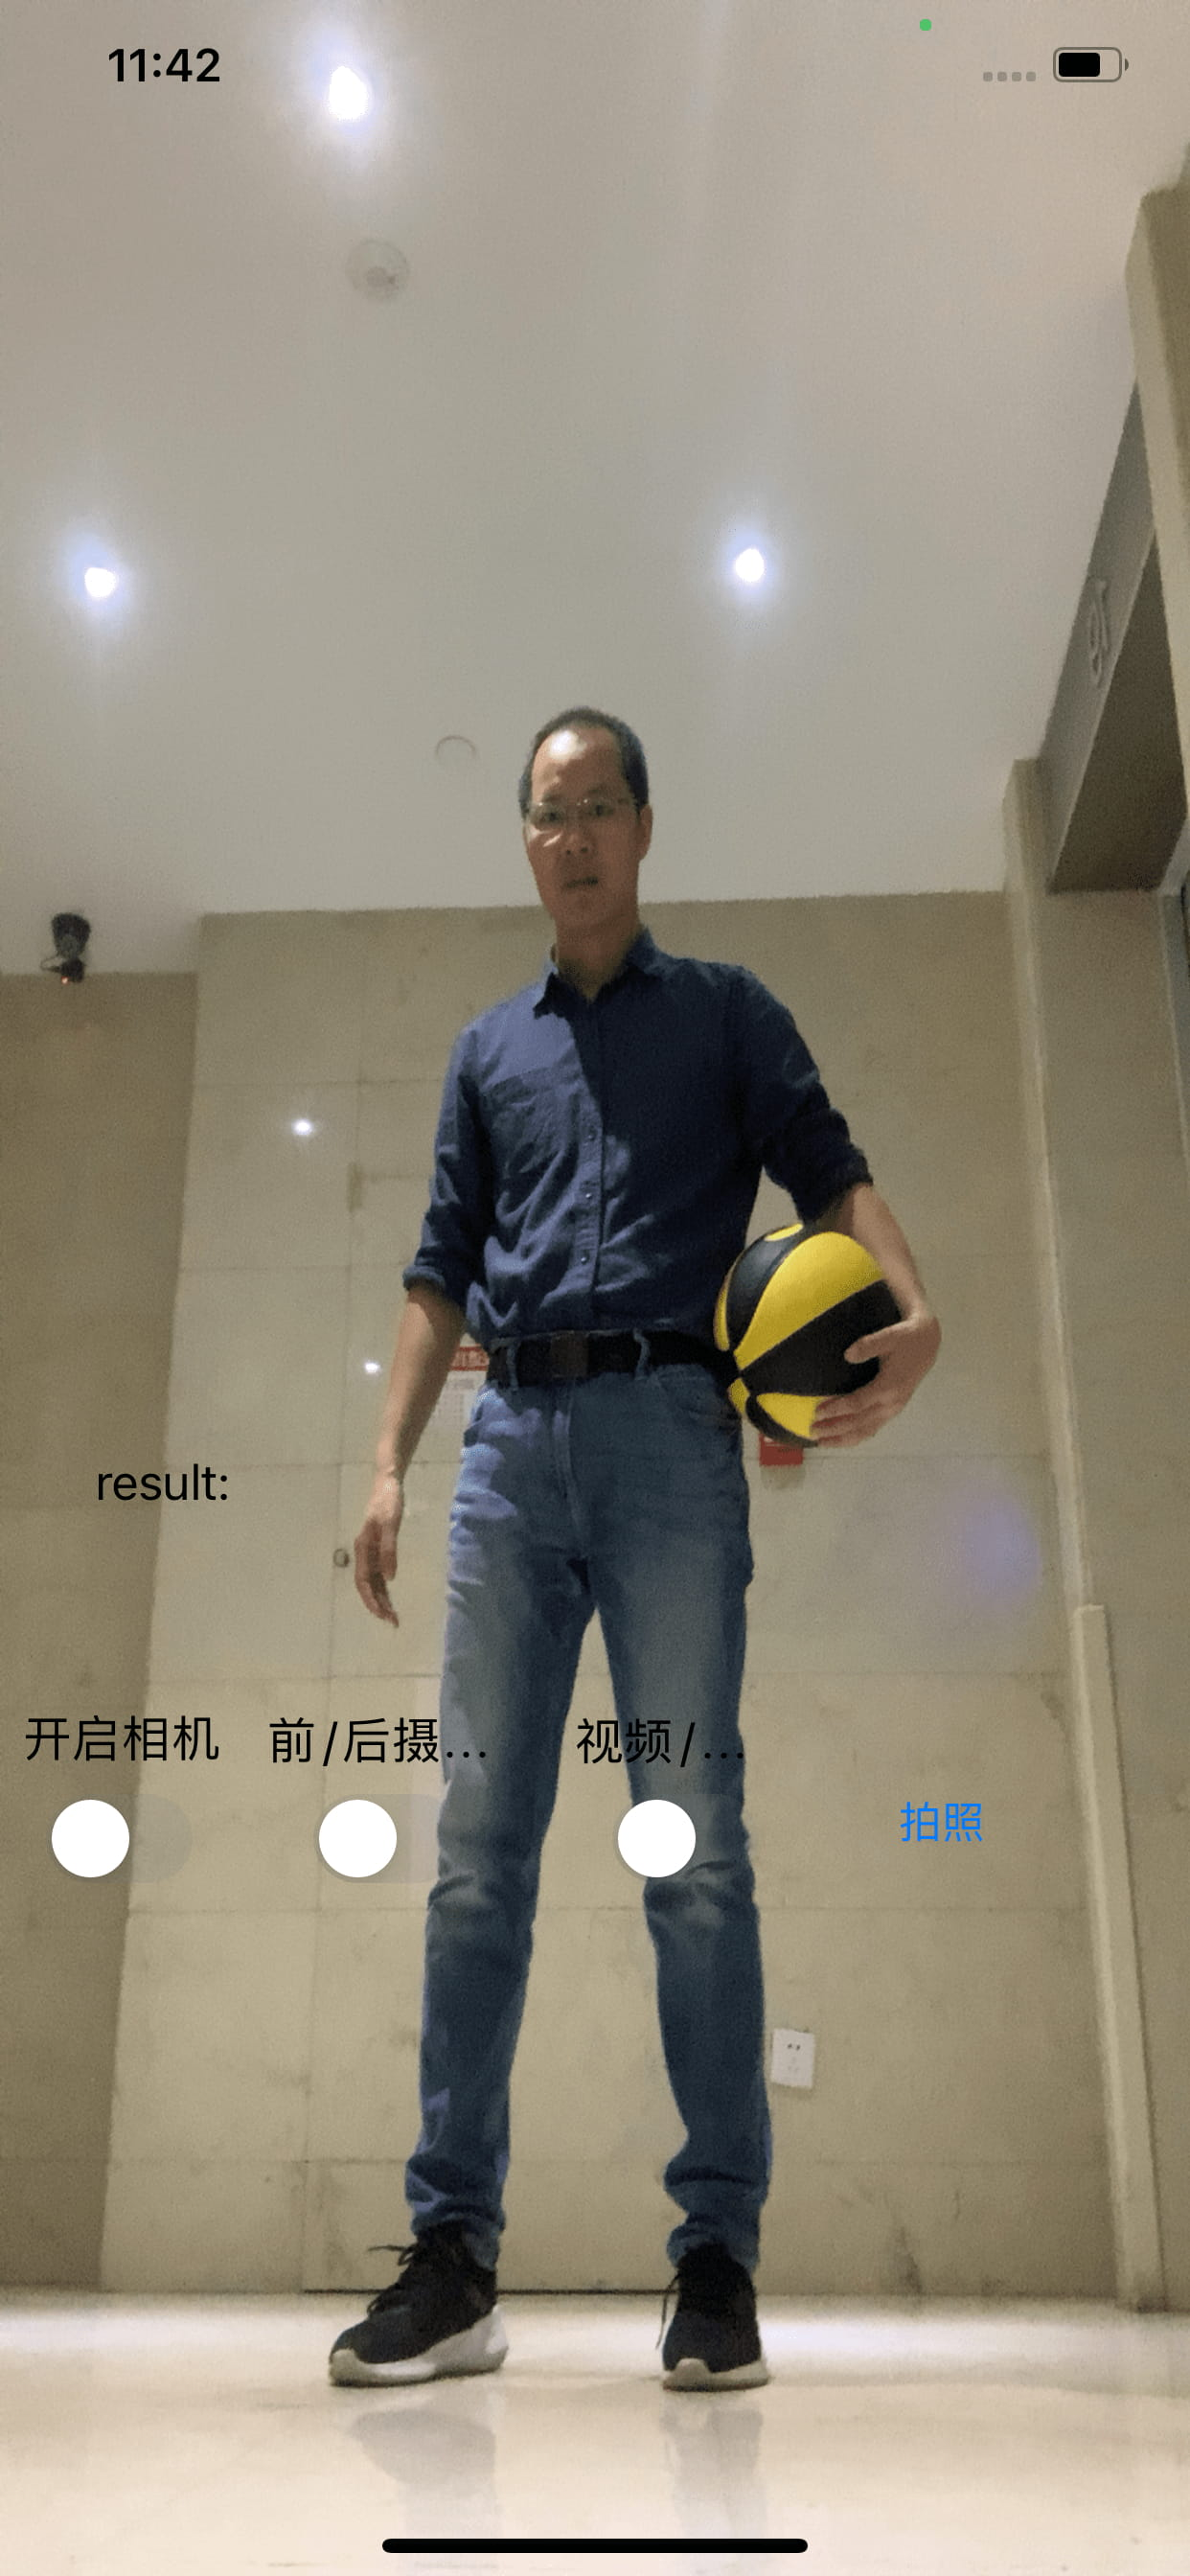ball: (718, 1226, 909, 1441)
